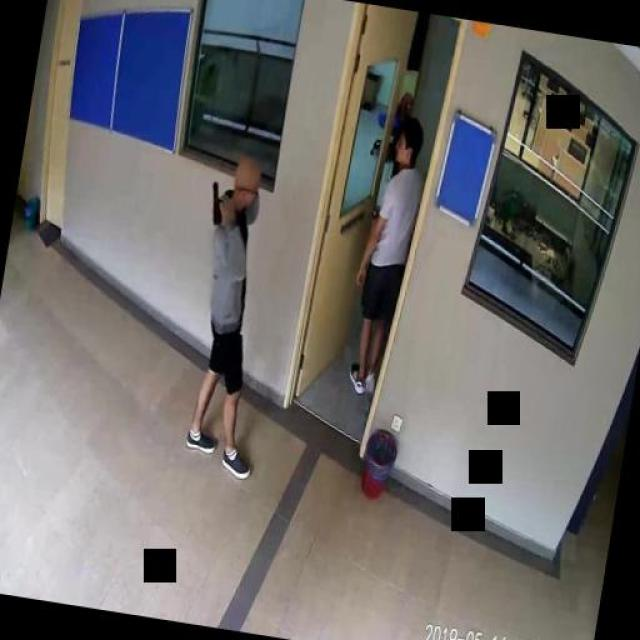gun: (206, 177, 234, 225)
